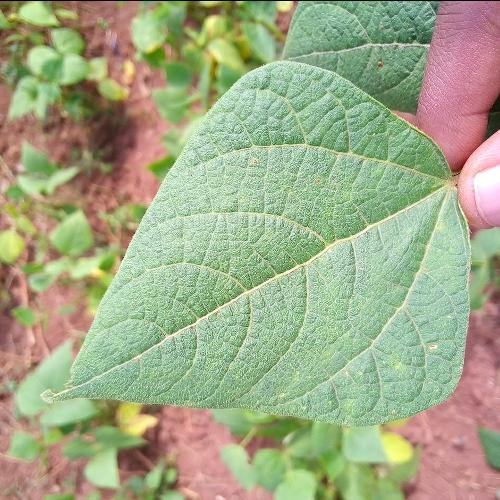sehat: (150, 31, 500, 461)
